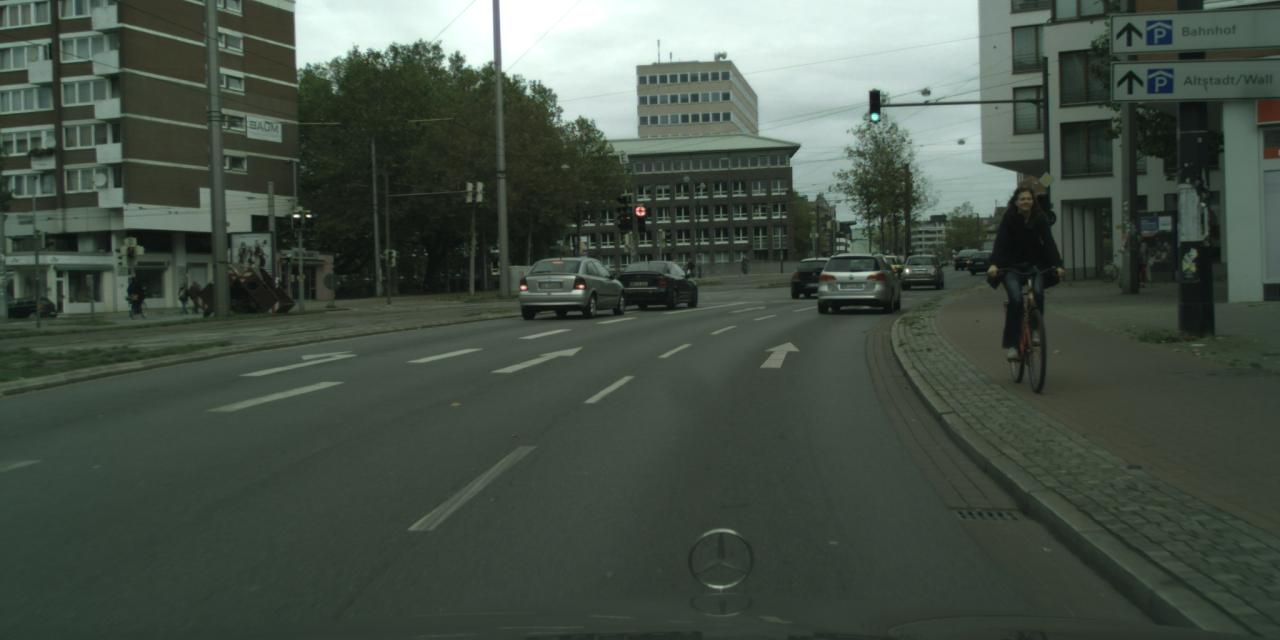ped: (992, 186, 1054, 340), (128, 277, 142, 312), (188, 278, 202, 312), (178, 283, 190, 313), (739, 254, 748, 274), (685, 258, 693, 276)
